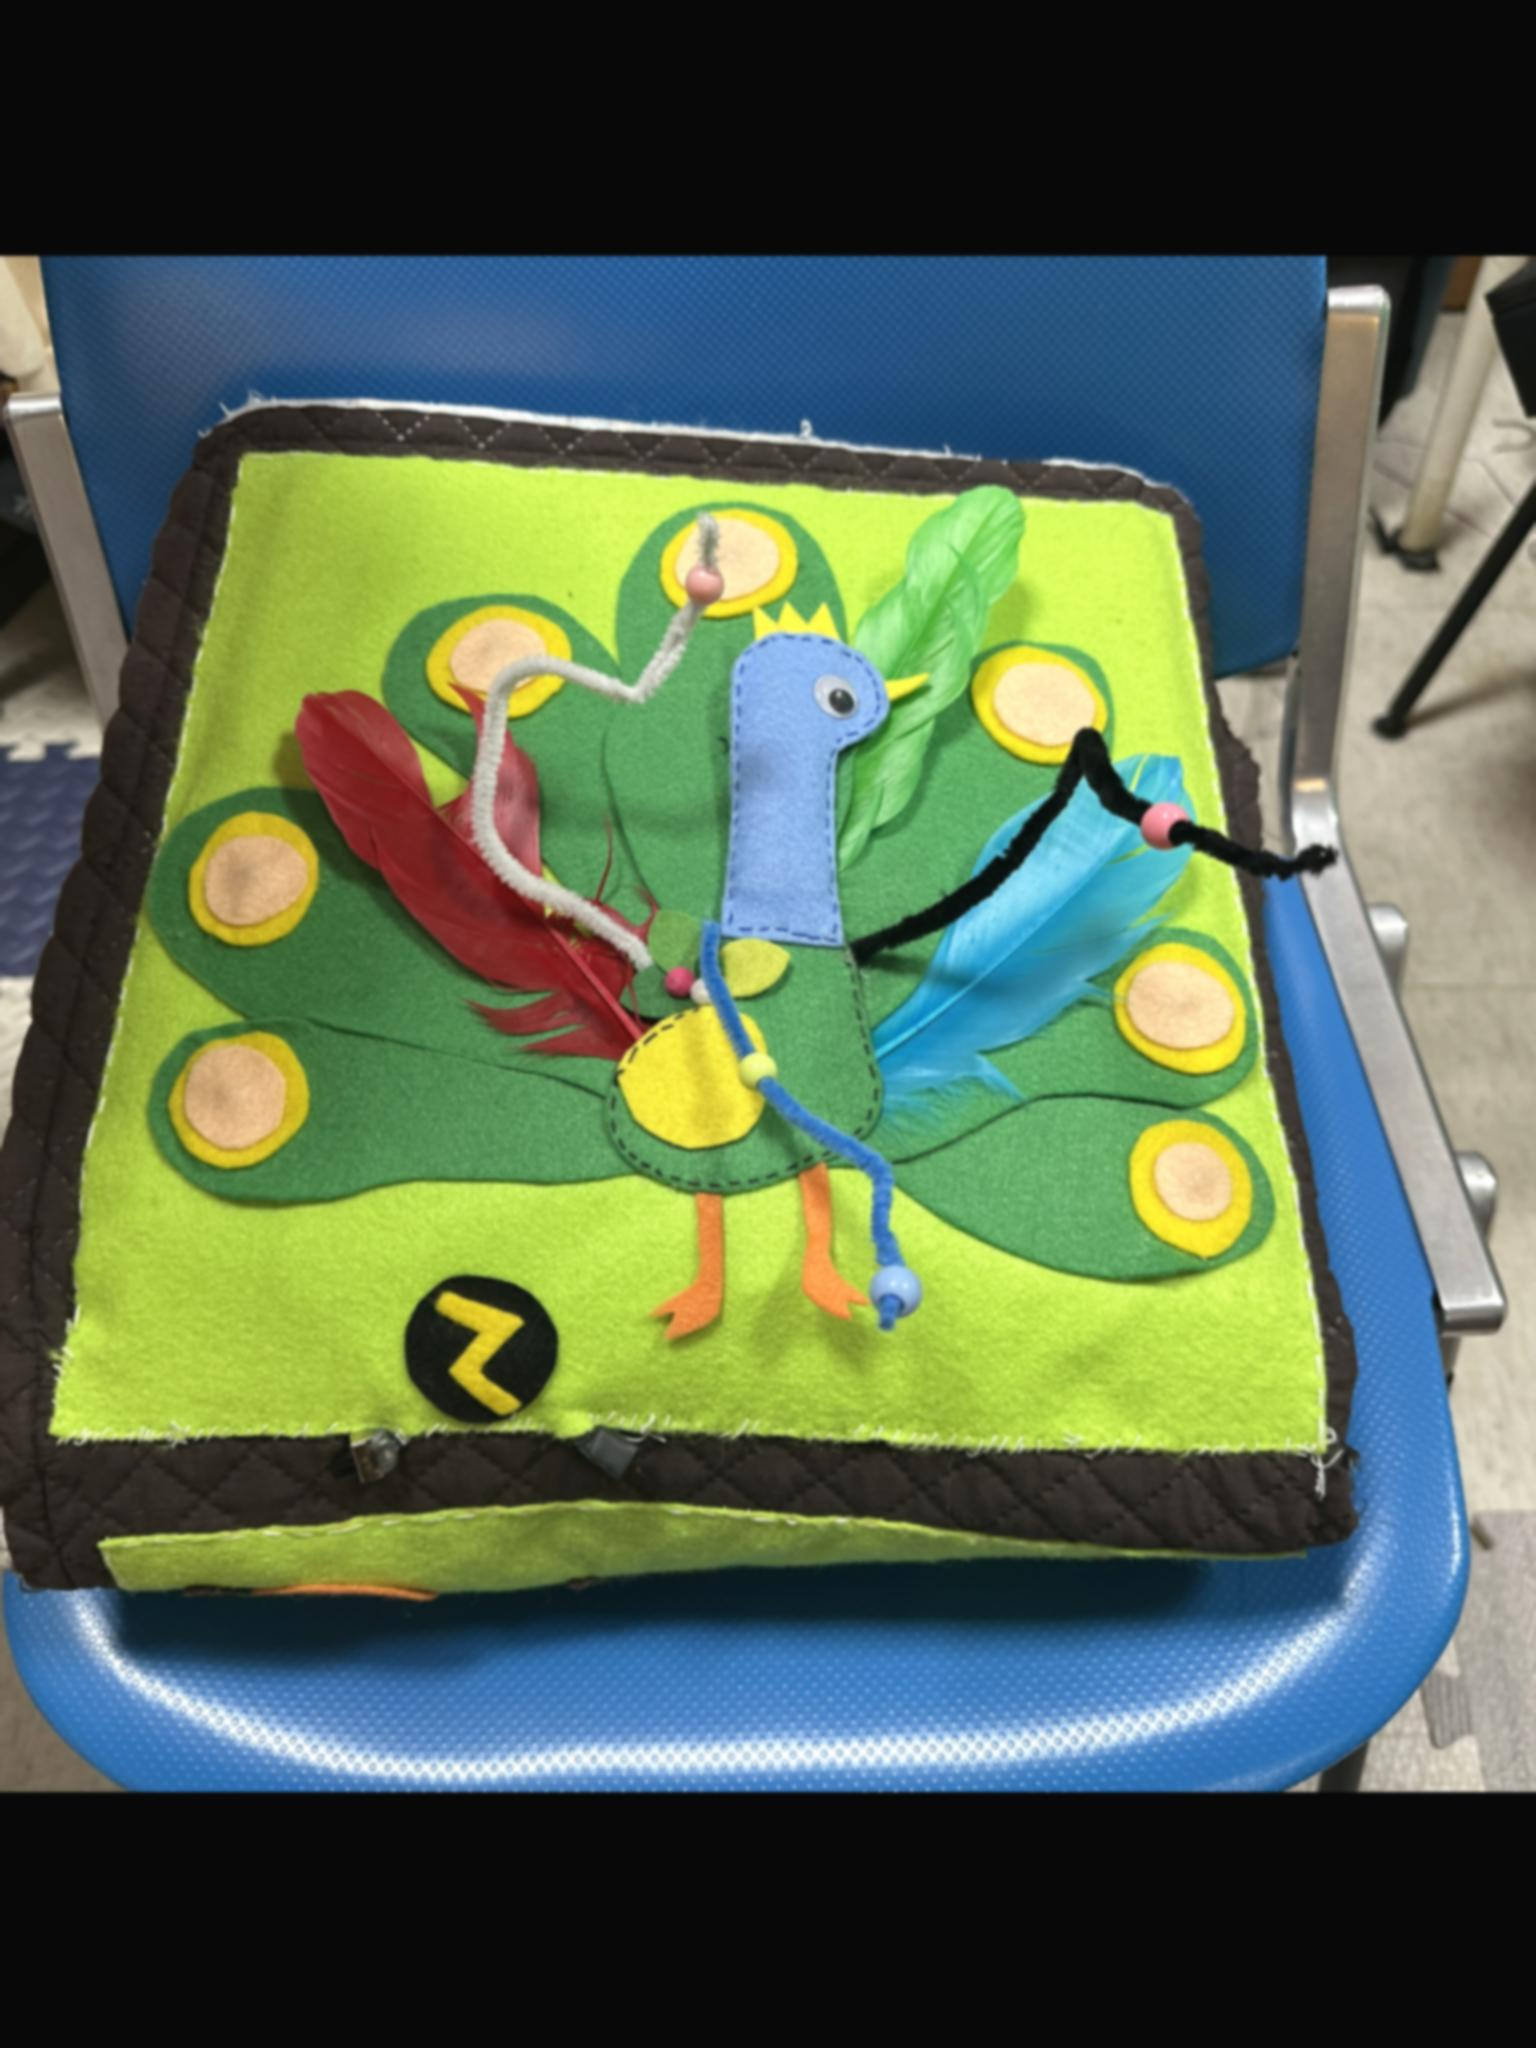bead: (844, 1256, 934, 1335), (655, 556, 749, 631), (721, 1039, 803, 1101), (1113, 795, 1197, 855)
